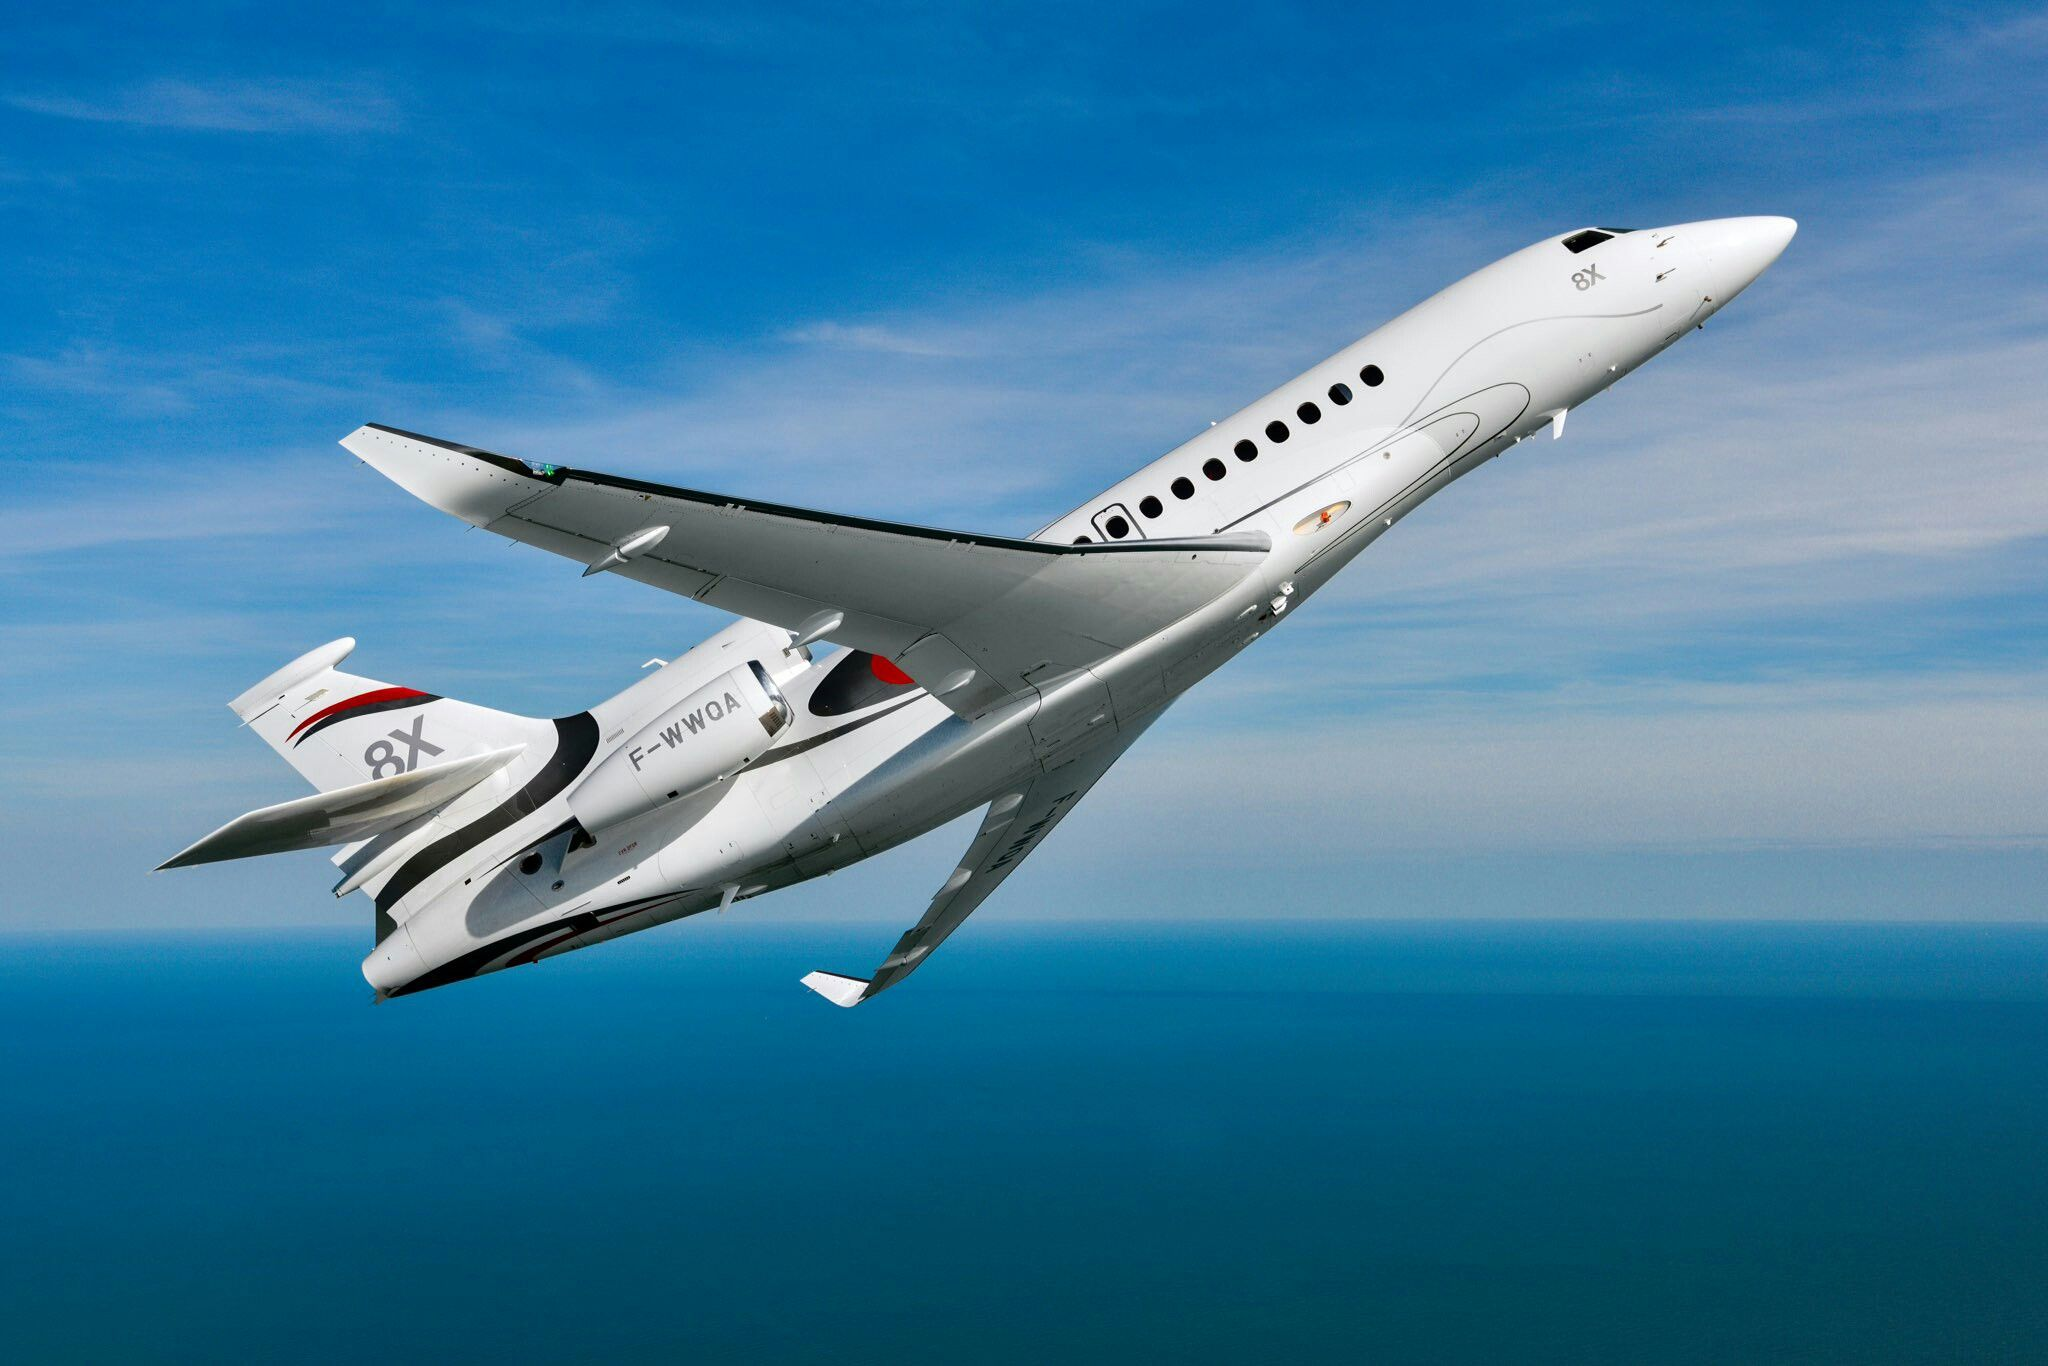Aeronef_commercial: (136, 186, 1839, 1057)
